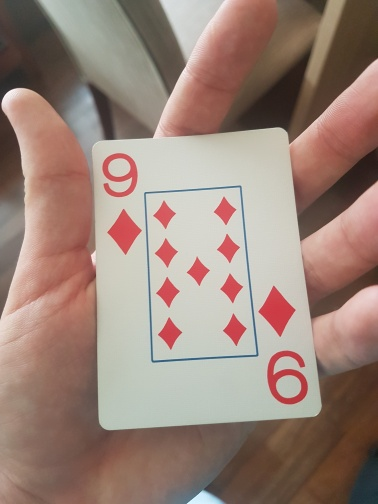nine: (93, 127, 322, 428)
